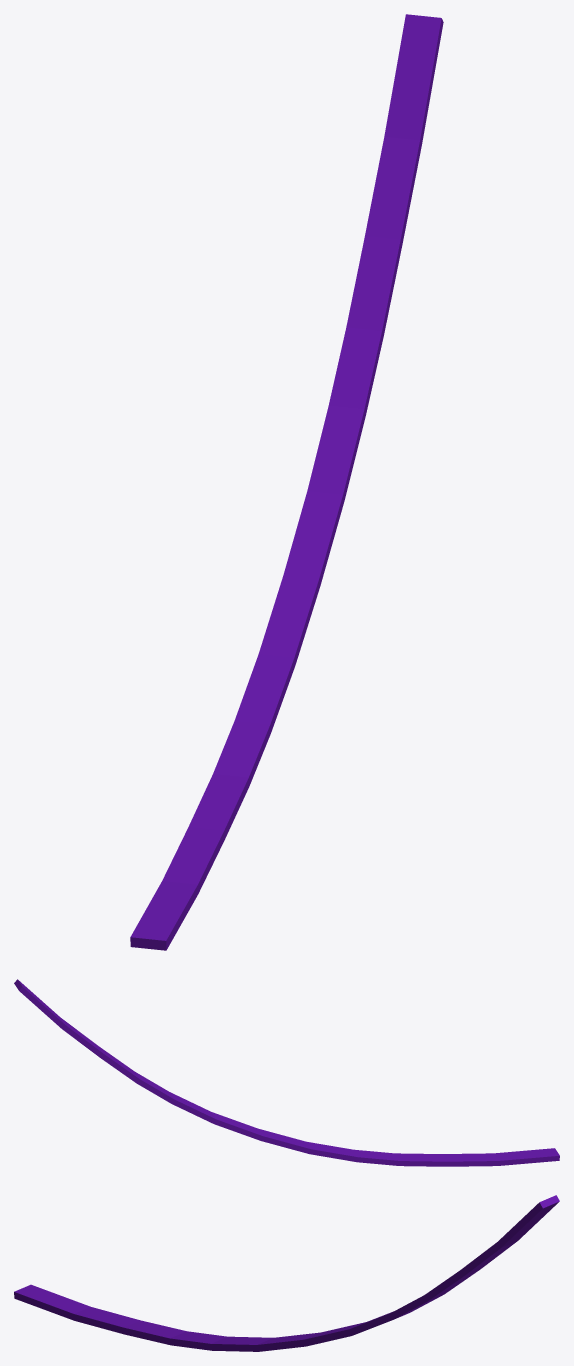
Rendered from Tape_17_chunks.fbx.
3 renders of one model, top to bottom at view 1: azimuth 30°, elevation 25°; view 2: azimuth 150°, elevation 25°; view 3: azimuth 270°, elevation 25°, orthographic. The views are drawn at different scales.
Parts seen in each view (by area): view 1: Tape_17_3, Tape_17_1, Tape_17_0; view 2: Tape_17_3, Tape_17_0, Tape_17_1; view 3: Tape_17_3, Tape_17_0, Tape_17_1, Tape_17_2.
Boxes of the visible parts, box(x1,y1,x2,y2) form: Tape_17_3: box(289, 14, 443, 554); Tape_17_1: box(228, 548, 330, 832); Tape_17_0: box(130, 710, 238, 950); Tape_17_3: box(14, 979, 250, 1135); Tape_17_0: box(351, 1150, 559, 1166); Tape_17_1: box(242, 1123, 422, 1163); Tape_17_3: box(320, 1195, 559, 1341); Tape_17_0: box(18, 1284, 234, 1337); Tape_17_1: box(130, 1330, 331, 1351); Tape_17_2: box(14, 1290, 61, 1309).
Size of the model in its own units: 528 by 342 by 541.
